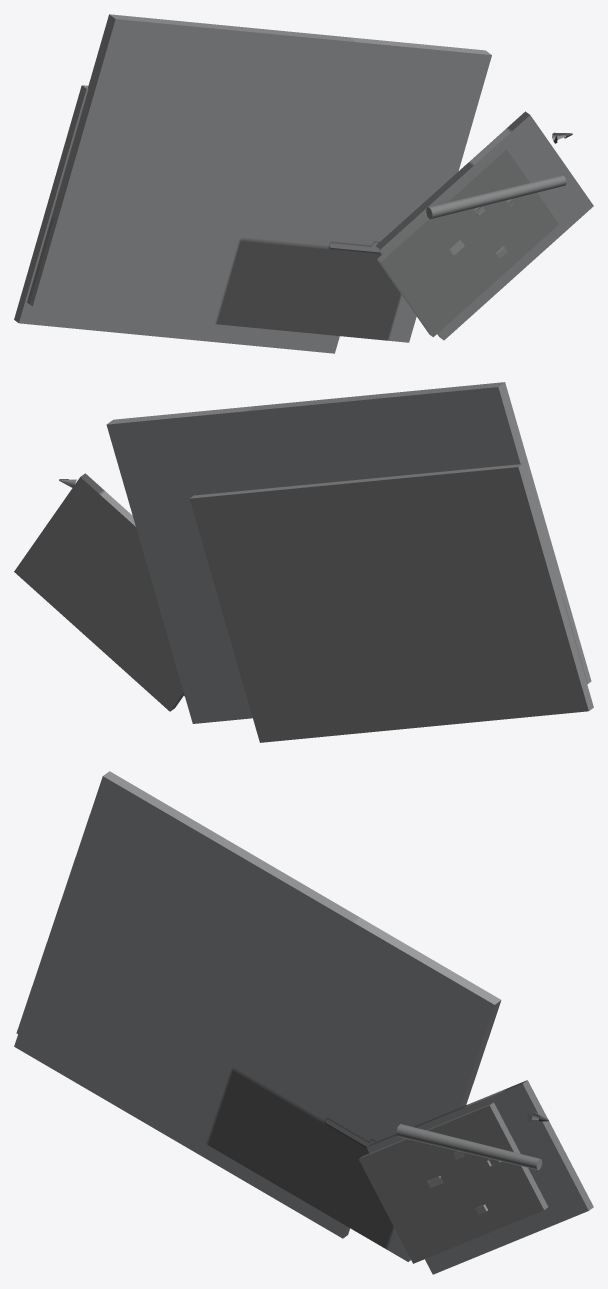
The picture shows the model from 3 angles, top to bottom: view 1: azimuth 30°, elevation 25°; view 2: azimuth 150°, elevation 25°; view 3: azimuth 330°, elevation 25°; orthographic projection. The views are drawn at different scales.
Size of the model in its own units: 0.7974 by 0.5355 by 0.0688.
